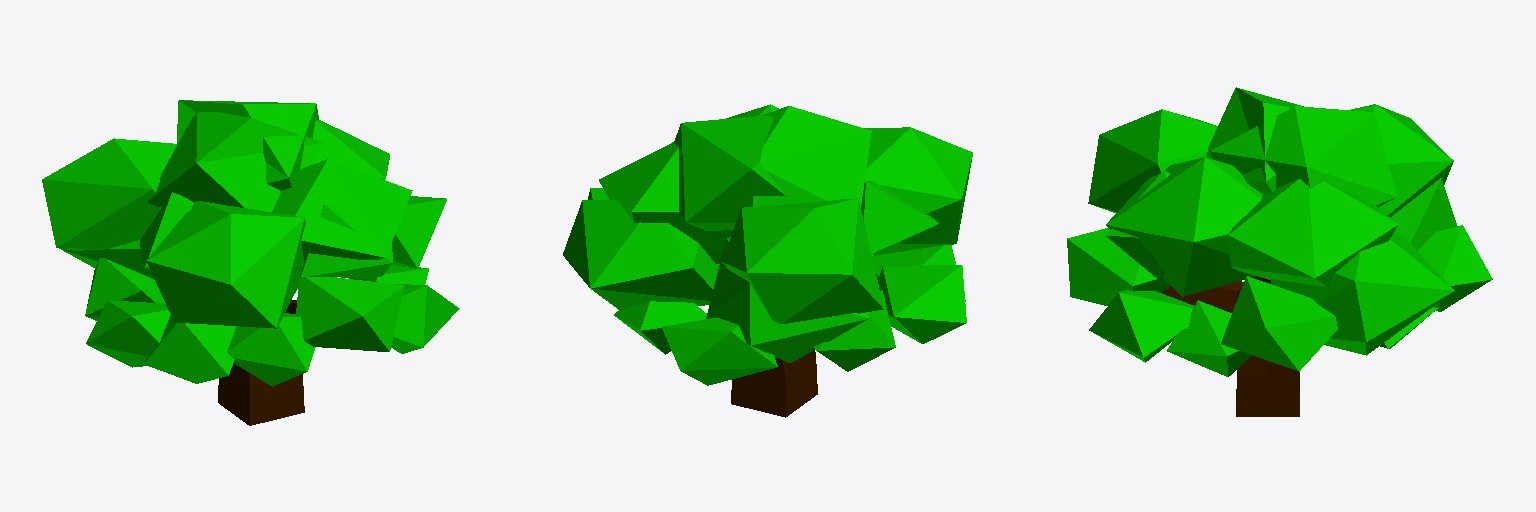
The model's file is Wood.obj.
3 renders of one model, left to right at view 1: azimuth 30°, elevation 25°; view 2: azimuth 150°, elevation 25°; view 3: azimuth 270°, elevation 25°, orthographic.
Parts seen in each view (by area): view 1: ICO球.004, 平面; view 2: ICO球.004, 平面; view 3: ICO球.004, 平面.
Boxes of the visible parts, <box> form: ICO球.004: <box>42,100,459,386</box>; 平面: <box>218,300,304,425</box>; ICO球.004: <box>563,104,972,385</box>; 平面: <box>731,350,817,417</box>; ICO球.004: <box>1067,87,1492,376</box>; 平面: <box>1162,276,1299,416</box>.
Size of the model in its own units: 13.36 by 10.19 by 13.35.